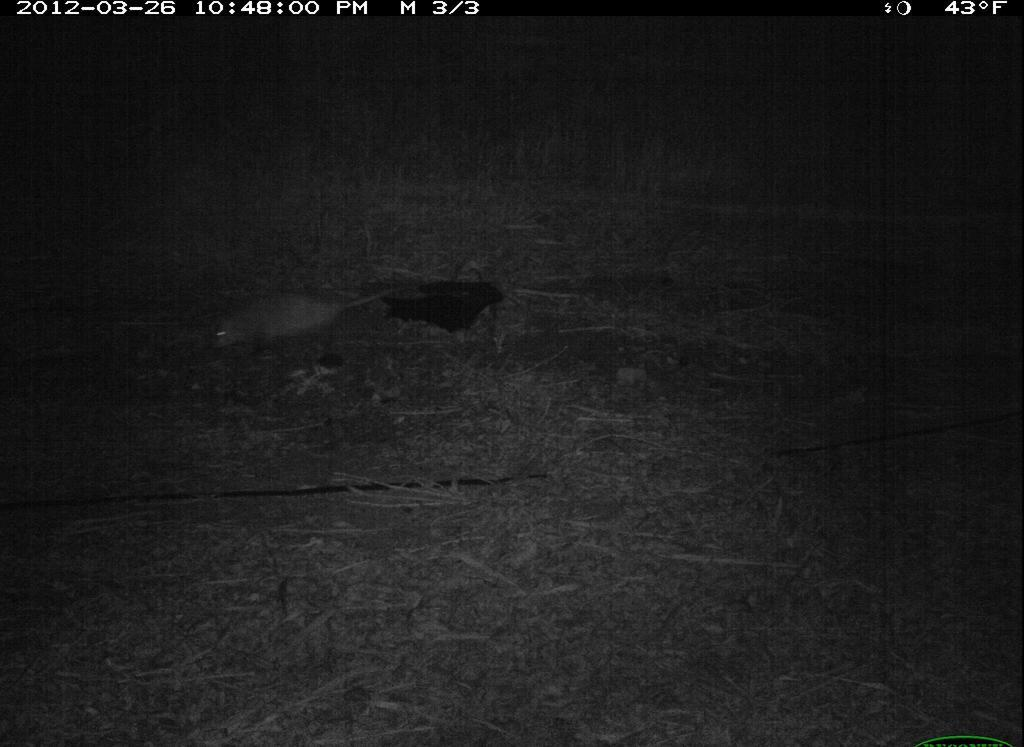opossum: (204, 273, 414, 370)
